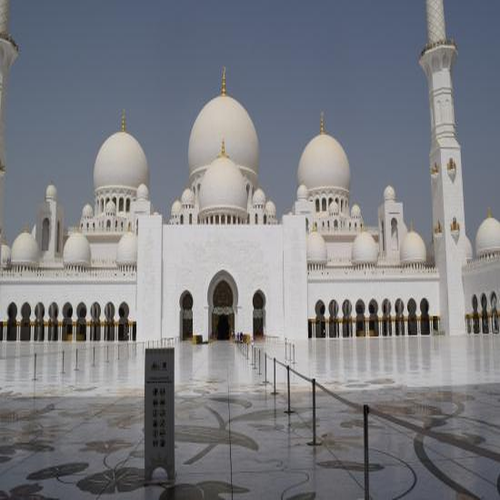Mosque: (15, 48, 495, 340)
